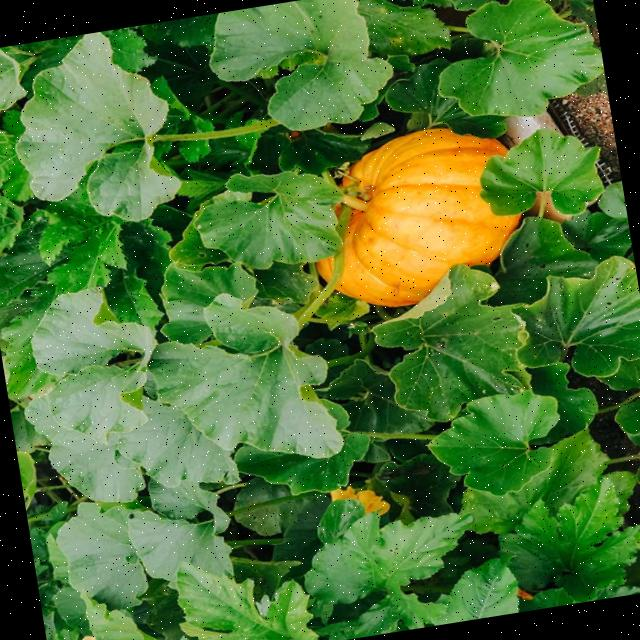pumpkin: (336, 127, 519, 306), (316, 257, 333, 280)
